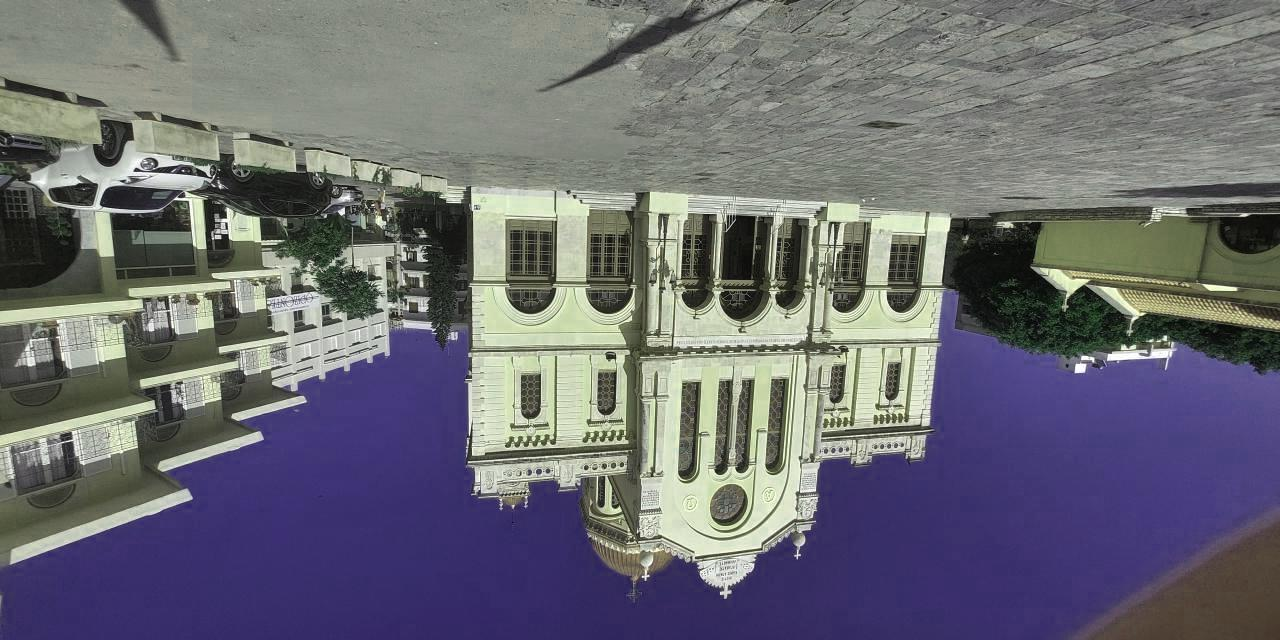Agios Minas: (468, 186, 952, 616)
